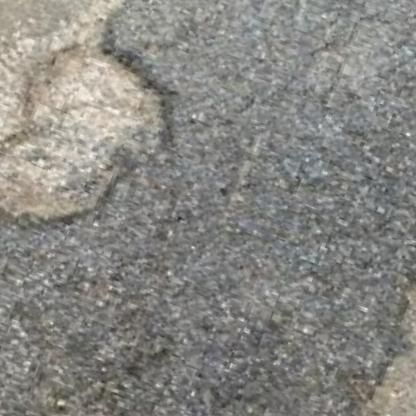pothole: (0, 10, 205, 269)
